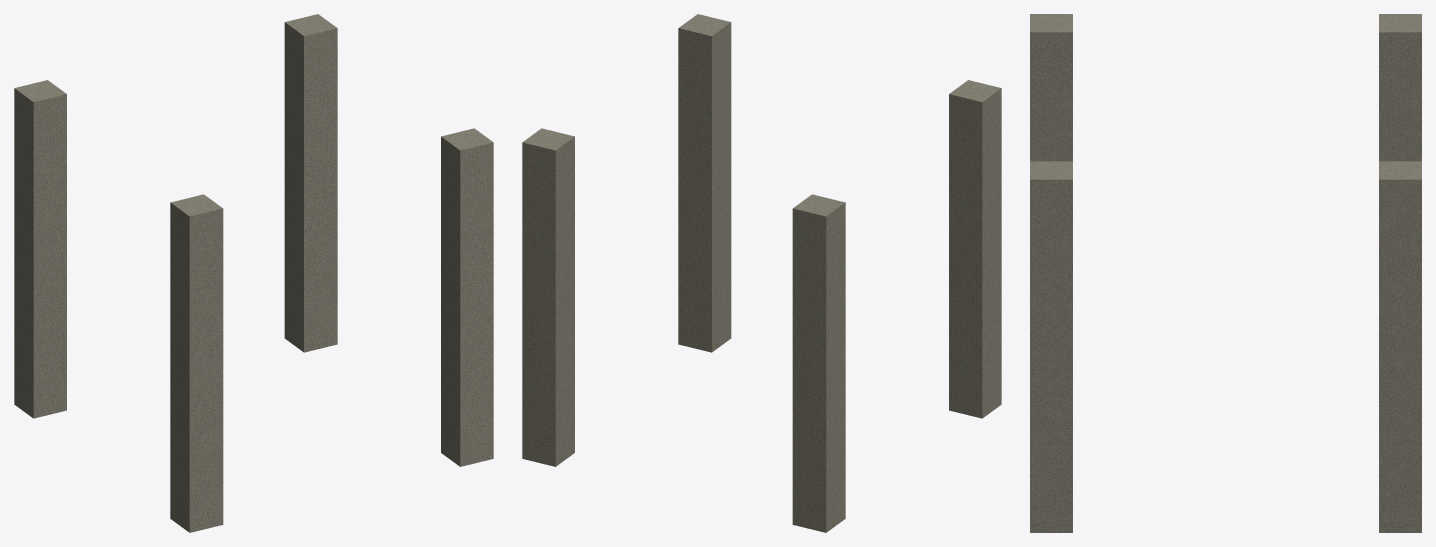
The picture shows the model from 3 angles, left to right: view 1: azimuth 30°, elevation 25°; view 2: azimuth 150°, elevation 25°; view 3: azimuth 270°, elevation 25°; orthographic projection. The views are drawn at different scales.
Parts seen in each view (by area): view 1: COL_pier, COL_pier.003, COL_pier.001, COL_pier.002; view 2: COL_pier.001, COL_pier.002, COL_pier, COL_pier.003; view 3: COL_pier.002, COL_pier.003, COL_pier, COL_pier.001.
Boxes of the visible parts, <box> form: COL_pier: <box>170,194,223,532</box>; COL_pier.003: <box>284,14,337,352</box>; COL_pier.001: <box>14,80,66,418</box>; COL_pier.002: <box>441,128,493,466</box>; COL_pier.001: <box>792,194,845,532</box>; COL_pier.002: <box>678,14,731,352</box>; COL_pier: <box>949,80,1001,418</box>; COL_pier.003: <box>522,128,574,466</box>; COL_pier.002: <box>1030,161,1072,532</box>; COL_pier.003: <box>1379,161,1421,532</box>; COL_pier: <box>1030,14,1072,161</box>; COL_pier.001: <box>1379,14,1421,161</box>.
Bounding box in the file's own units: 3.82 × 3.8 × 3.82.
1 material, 1 textured.
